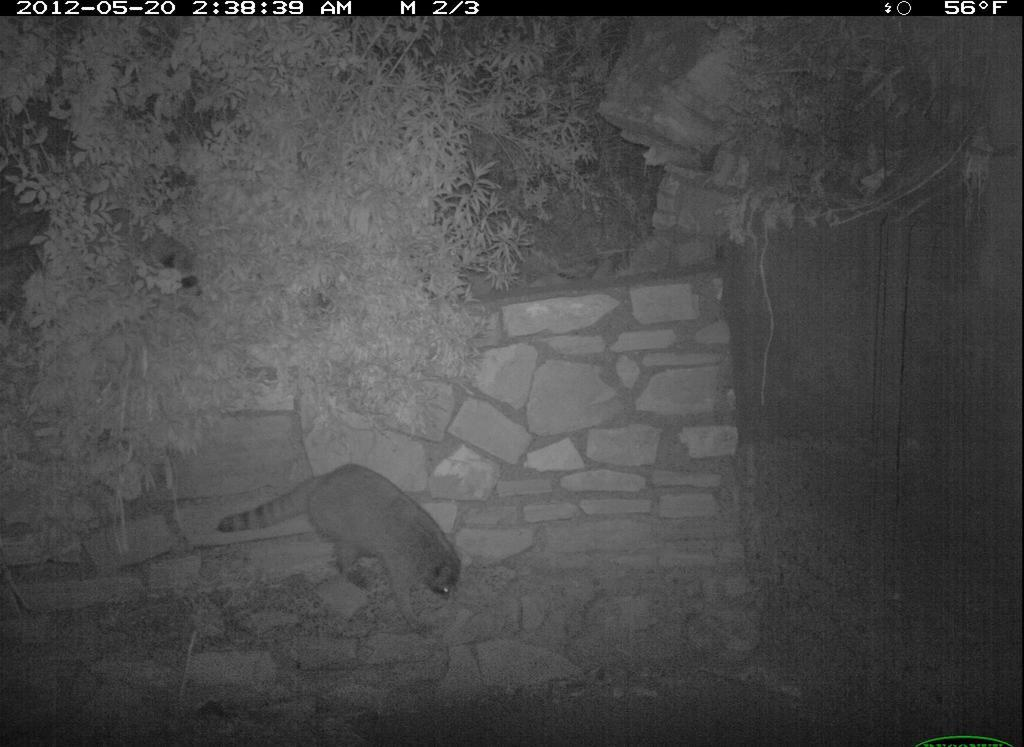raccoon: (210, 456, 469, 646)
